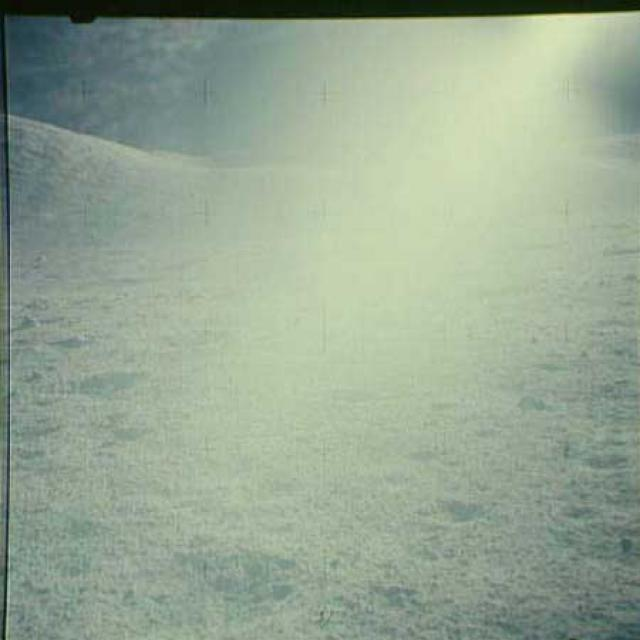crater: (33, 365, 166, 411), (423, 490, 492, 528)
